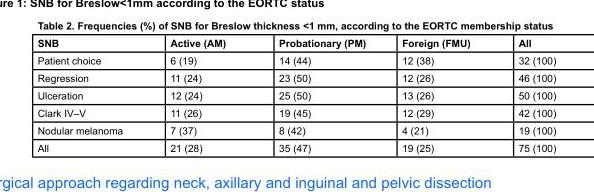table: (36, 36, 555, 153)
table column: (251, 36, 383, 153), (383, 36, 493, 153), (36, 36, 145, 153), (145, 36, 251, 153), (493, 36, 555, 153)
table column header: (36, 36, 555, 51)
table row: (36, 68, 555, 86), (36, 103, 555, 121), (36, 51, 555, 68), (36, 86, 555, 103), (36, 121, 555, 138), (36, 36, 555, 51), (36, 138, 555, 153)
